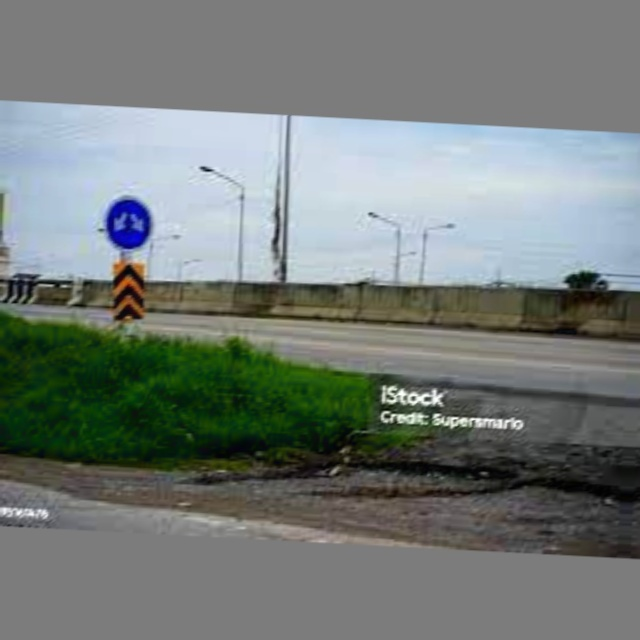Pass_Either_Side: (105, 193, 156, 251)
